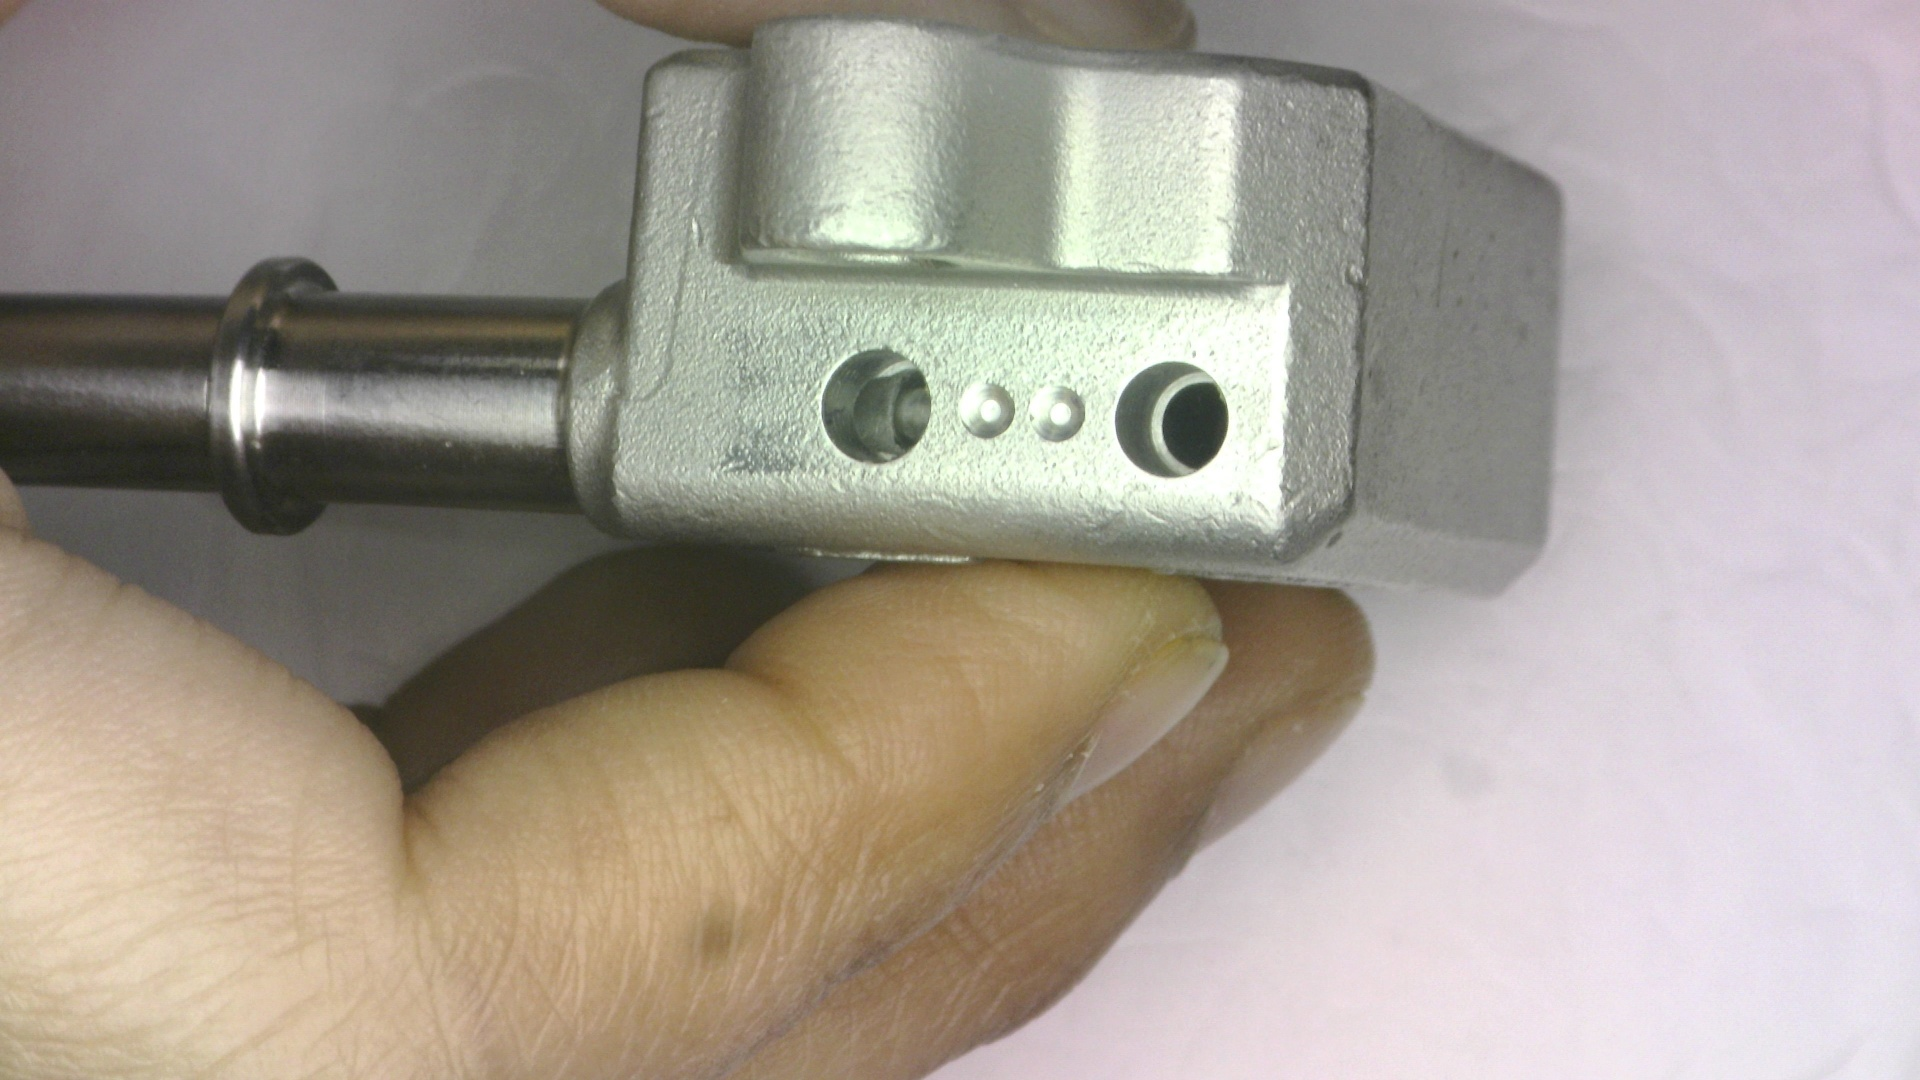chamfer_absence: (1631, 843, 1869, 947)
